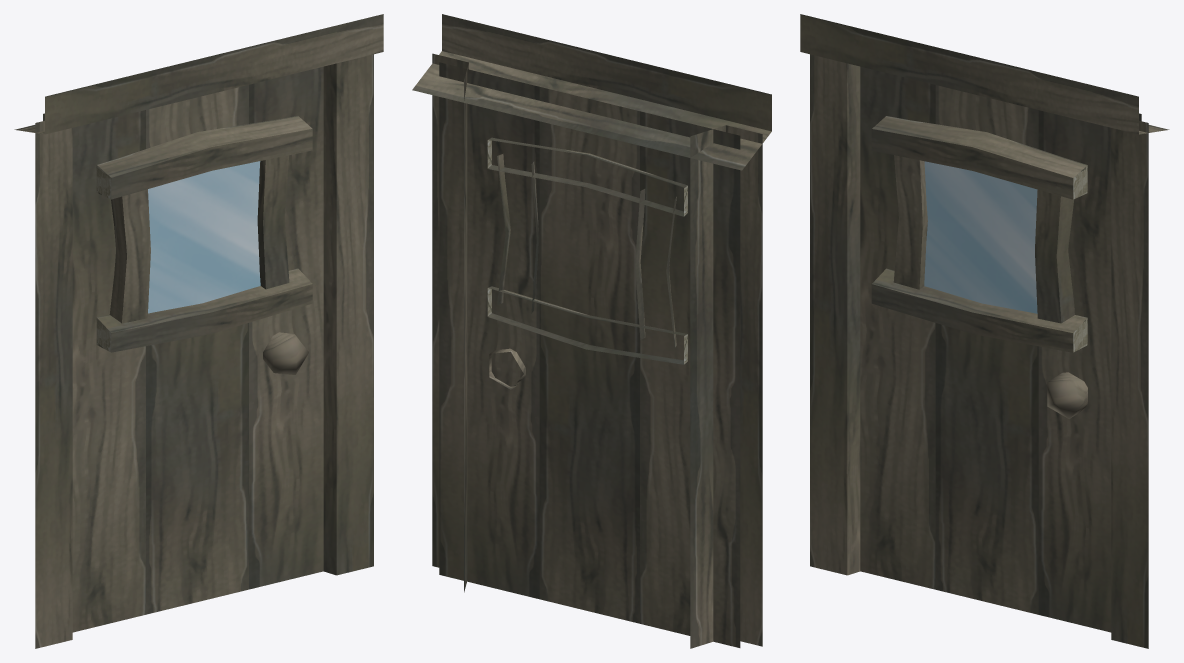
File: Door.FBX
The picture shows the model from 3 angles, left to right: view 1: azimuth 30°, elevation 25°; view 2: azimuth 150°, elevation 25°; view 3: azimuth 330°, elevation 25°; orthographic projection. The views are drawn at different scales.
Parts seen in each view (by area): view 1: Door; view 2: Door; view 3: Door.
Part boxes in pixels (<box>): Door: <box>14,14,383,648</box>; Door: <box>412,14,771,648</box>; Door: <box>800,14,1169,648</box>.
Bounding box in the file's own units: 1.35 × 0.2116 × 2.13.
